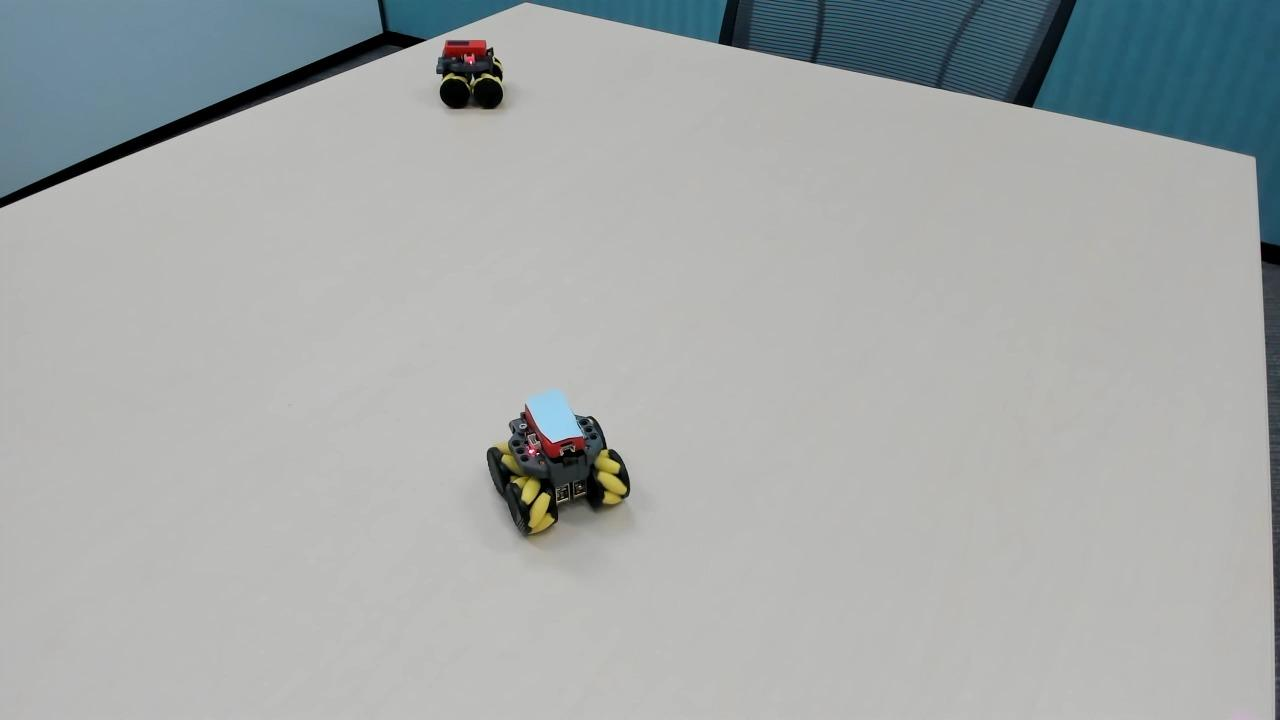B-Robot: (471, 382, 640, 545)
R-Robot: (431, 34, 514, 119)
